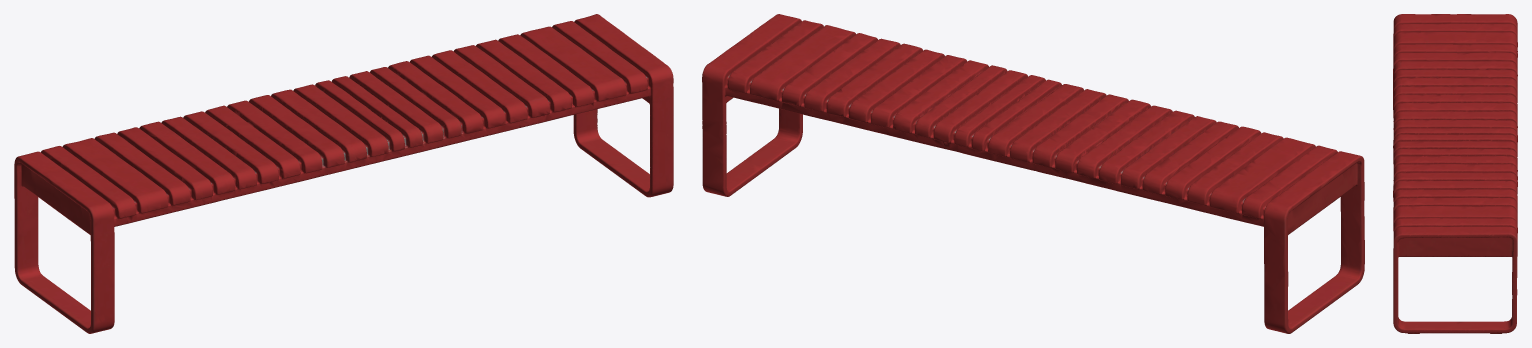
File: bench2.glb
3 views of the same model, side by side, from view 1: azimuth 30°, elevation 25°; view 2: azimuth 150°, elevation 25°; view 3: azimuth 270°, elevation 25° (orthographic). The views are drawn at different scales.
Parts seen in each view (by area): view 1: mesh_node; view 2: mesh_node; view 3: mesh_node.
Boxes of the visible parts, <box> form: mesh_node: <box>14,14,673,333</box>; mesh_node: <box>702,14,1364,333</box>; mesh_node: <box>1393,14,1517,333</box>.
Size of the model in its own units: 1.9 by 0.4096 by 0.4549.
Materials: 1 (1 with a texture image).
